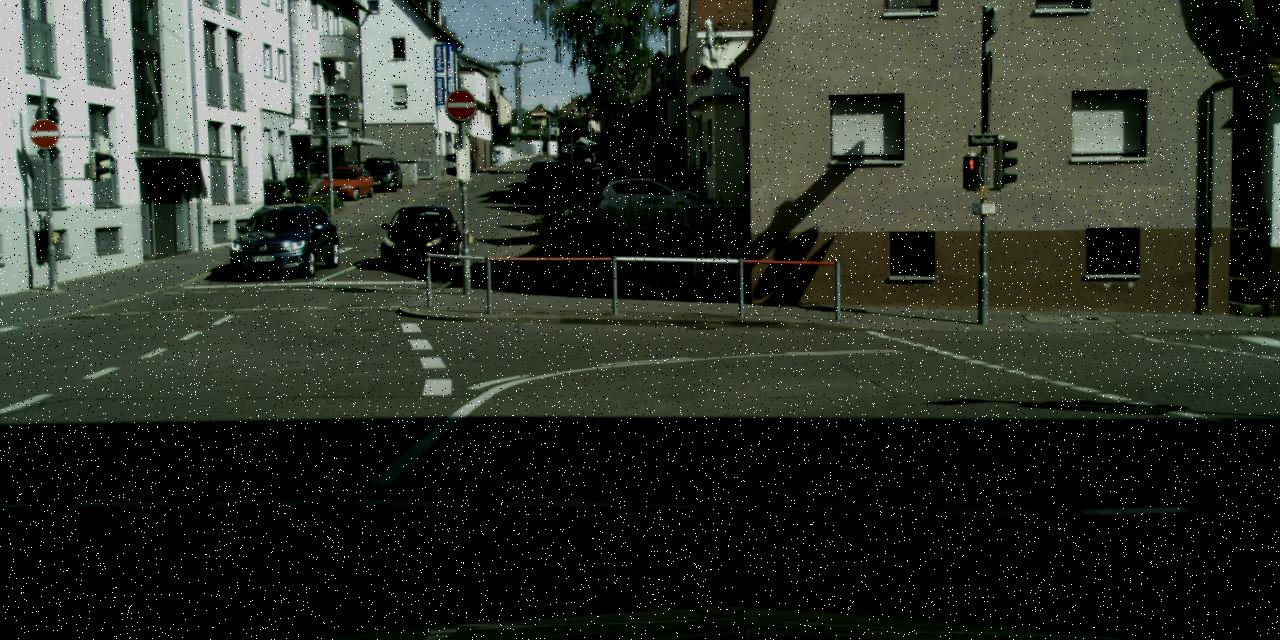ped: (588, 141, 592, 152)
